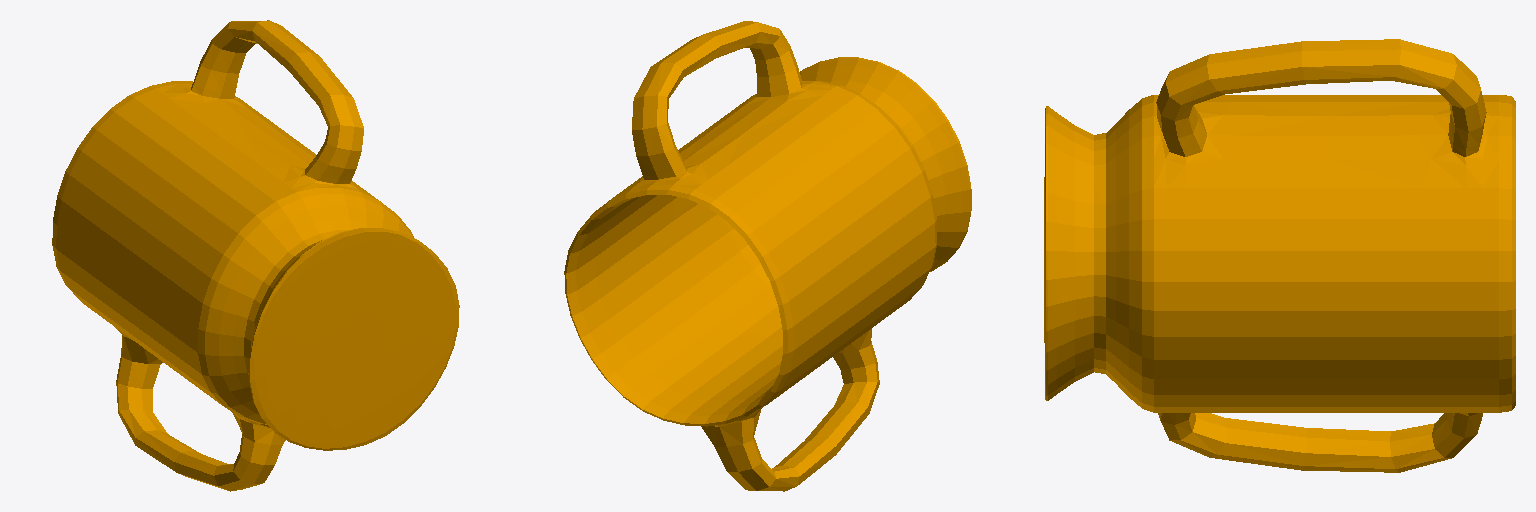
robot.urdf — 127:
<?xml version="1.0" ?>
<robot name="127">
  <link name="body">
    <visual>
      <geometry>
        <mesh filename="../shapes/127.obj"/>
      </geometry>
    </visual>
    <collision>
      <geometry>
        <mesh filename="../shapes/127.obj"/>
      </geometry>
    </collision>
  </link>
</robot>

--- Render facts (derived) ---
The picture shows the robot from 3 angles, left to right: view 1: azimuth 30°, elevation 25°; view 2: azimuth 150°, elevation 25°; view 3: azimuth 270°, elevation 25°; orthographic projection.
Robot: 127 — 1 links, 0 joints (none); root link body; default pose: all joints at 0.
Links seen in each view (by area): view 1: body; view 2: body; view 3: body.
Boxes of the visible links, x1,y1,x2,y2 form: body: (52,20,459,491); body: (564,21,971,491); body: (1044,39,1515,472).
Bounding box of the posed robot: 2.46 × 3.64 × 4.2 m (x, y, z).
Meshes: 1 distinct files referenced, 1 mesh visuals loaded (1 OBJ).